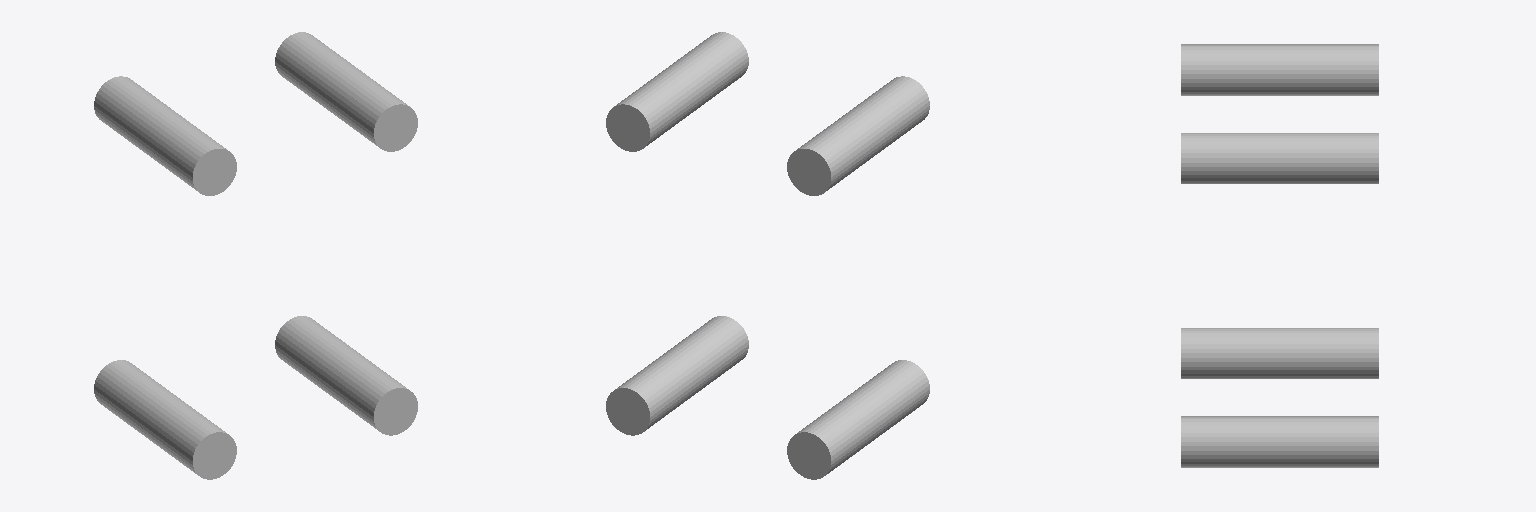
The model's file is fixture_cutouts.obj.
The picture shows the model from 3 angles: view 1: azimuth 30°, elevation 25°; view 2: azimuth 150°, elevation 25°; view 3: azimuth 270°, elevation 25°; orthographic projection.
Parts seen in each view (by area): view 1: Body1, Body2, Body3, Body4; view 2: Body1, Body2, Body3, Body4; view 3: Body1, Body2, Body3, Body4.
Boxes of the visible parts, x1=… form: Body1: x1=275, y1=316, x2=417, y2=435; Body2: x1=94, y1=76, x2=236, y2=195; Body3: x1=94, y1=360, x2=236, y2=479; Body4: x1=275, y1=32, x2=417, y2=151; Body1: x1=606, y1=316, x2=748, y2=435; Body2: x1=787, y1=76, x2=929, y2=195; Body3: x1=787, y1=360, x2=929, y2=479; Body4: x1=606, y1=32, x2=748, y2=151; Body1: x1=1181, y1=416, x2=1378, y2=467; Body2: x1=1181, y1=44, x2=1378, y2=95; Body3: x1=1181, y1=328, x2=1378, y2=378; Body4: x1=1181, y1=133, x2=1378, y2=183.
Bounding box in the file's own units: 19.79 × 27.7 × 15.